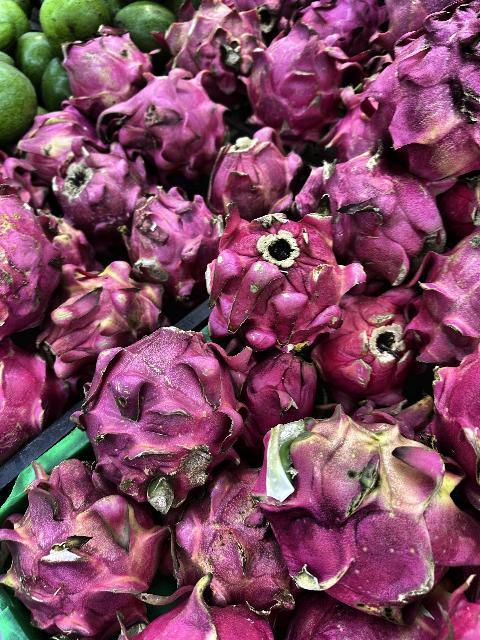buah-naga-belum-matang: (252, 403, 476, 605), (0, 458, 164, 632), (172, 470, 294, 612), (39, 264, 164, 358), (154, 0, 262, 86), (28, 106, 90, 162), (46, 207, 95, 270)
buah-naga-matang: (73, 333, 236, 493), (202, 204, 352, 332), (298, 145, 444, 273), (380, 7, 480, 170), (314, 285, 418, 403), (106, 64, 221, 168), (246, 23, 348, 132), (226, 337, 322, 431), (420, 218, 480, 362), (53, 140, 143, 234), (1, 184, 57, 328), (428, 352, 480, 504), (0, 332, 64, 446), (130, 187, 206, 283), (208, 134, 304, 203), (59, 32, 149, 102)
